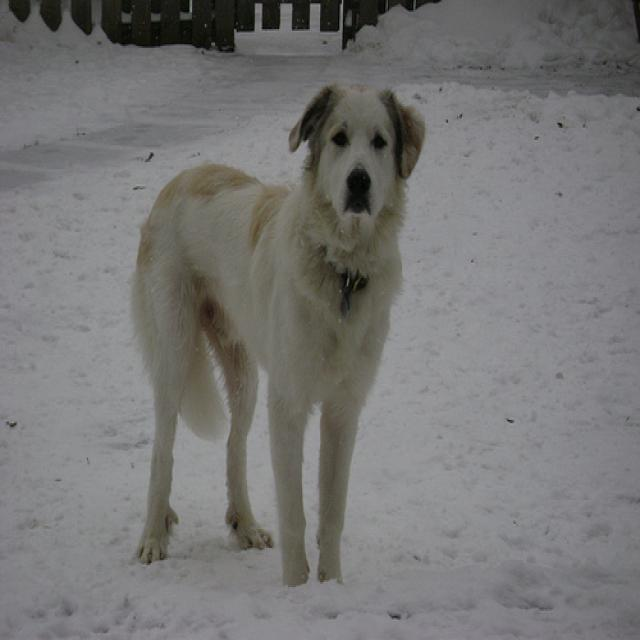dog-great_pyrenees: (122, 77, 442, 596)
